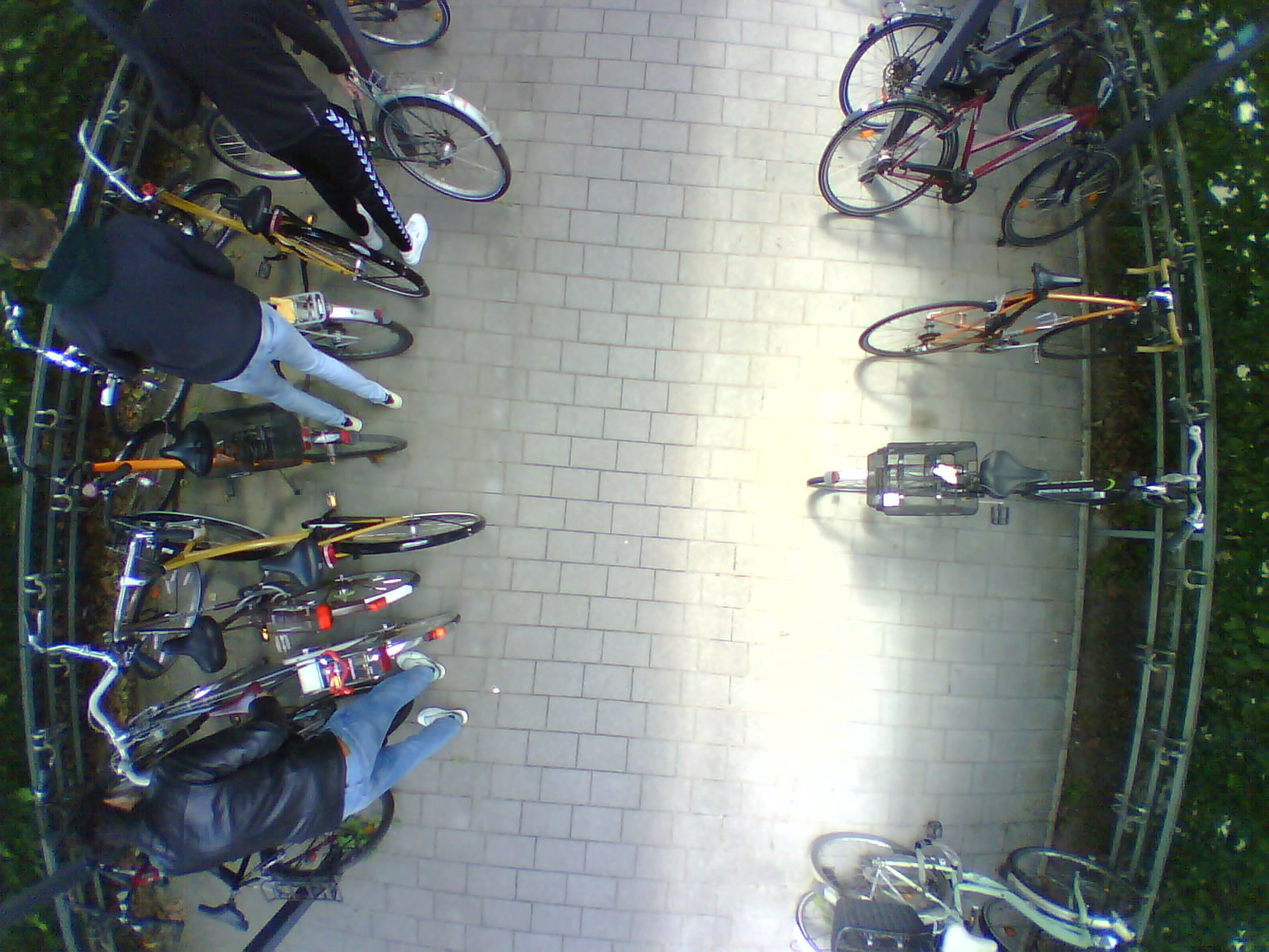bicylce: (817, 52, 1131, 244), (802, 412, 1200, 554), (94, 603, 458, 756), (806, 819, 1150, 951), (101, 161, 427, 290), (836, 0, 1120, 135), (118, 506, 485, 605), (59, 412, 408, 515), (48, 566, 413, 660), (856, 260, 1188, 361)
saddle: (982, 445, 1052, 504), (154, 610, 223, 668), (256, 539, 322, 594), (214, 184, 276, 236), (158, 428, 217, 478), (207, 679, 271, 719), (1028, 263, 1086, 303), (195, 900, 252, 935), (963, 54, 1015, 91), (940, 920, 998, 952)
